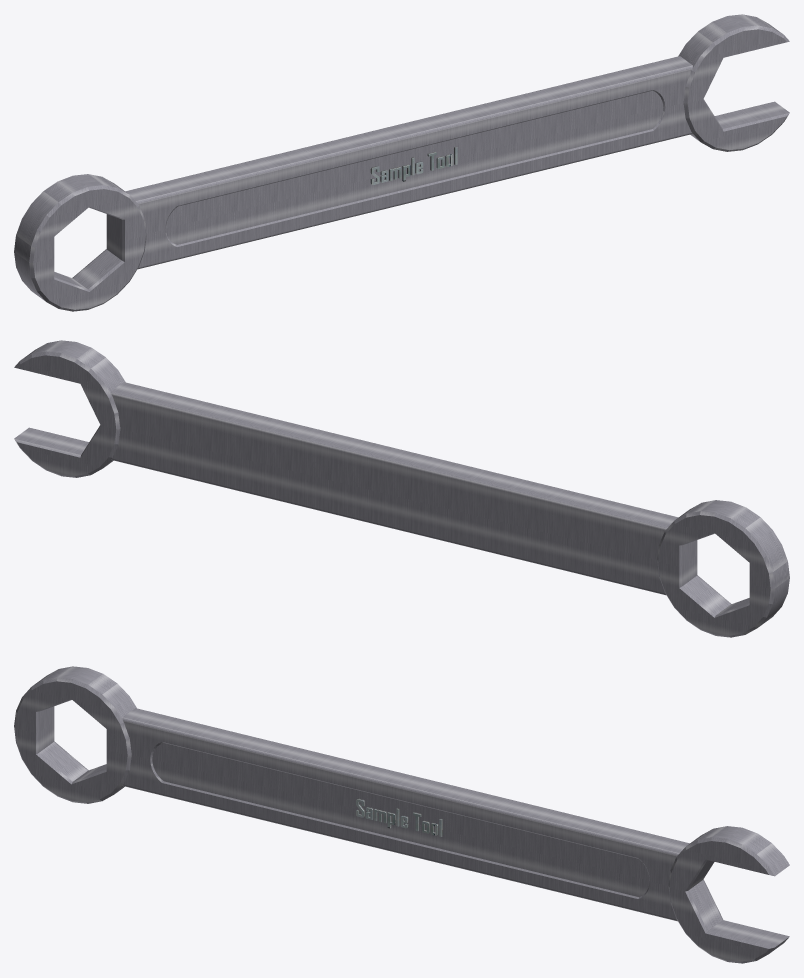
File: Sin.dae
The picture shows the model from 3 angles, top to bottom: view 1: azimuth 30°, elevation 25°; view 2: azimuth 150°, elevation 25°; view 3: azimuth 330°, elevation 25°; orthographic projection.
Visible parts, largest first — view 1: Model, Sample_Tool1; view 2: Model; view 3: Model, Sample_Tool1.
Part boxes in pixels (x1,y1,x2,y2): Model: (14,14,789,311); Sample_Tool1: (370,146,457,184); Model: (14,340,789,637); Model: (14,666,789,963); Sample_Tool1: (356,798,442,836).
Size of the model in its own units: 11.63 by 0.48 by 1.8.
